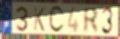3: (100, 6, 116, 36), (15, 5, 29, 33)
4: (67, 6, 81, 35)
C: (48, 5, 65, 35)
K: (33, 6, 46, 33)
R: (83, 7, 100, 34)
